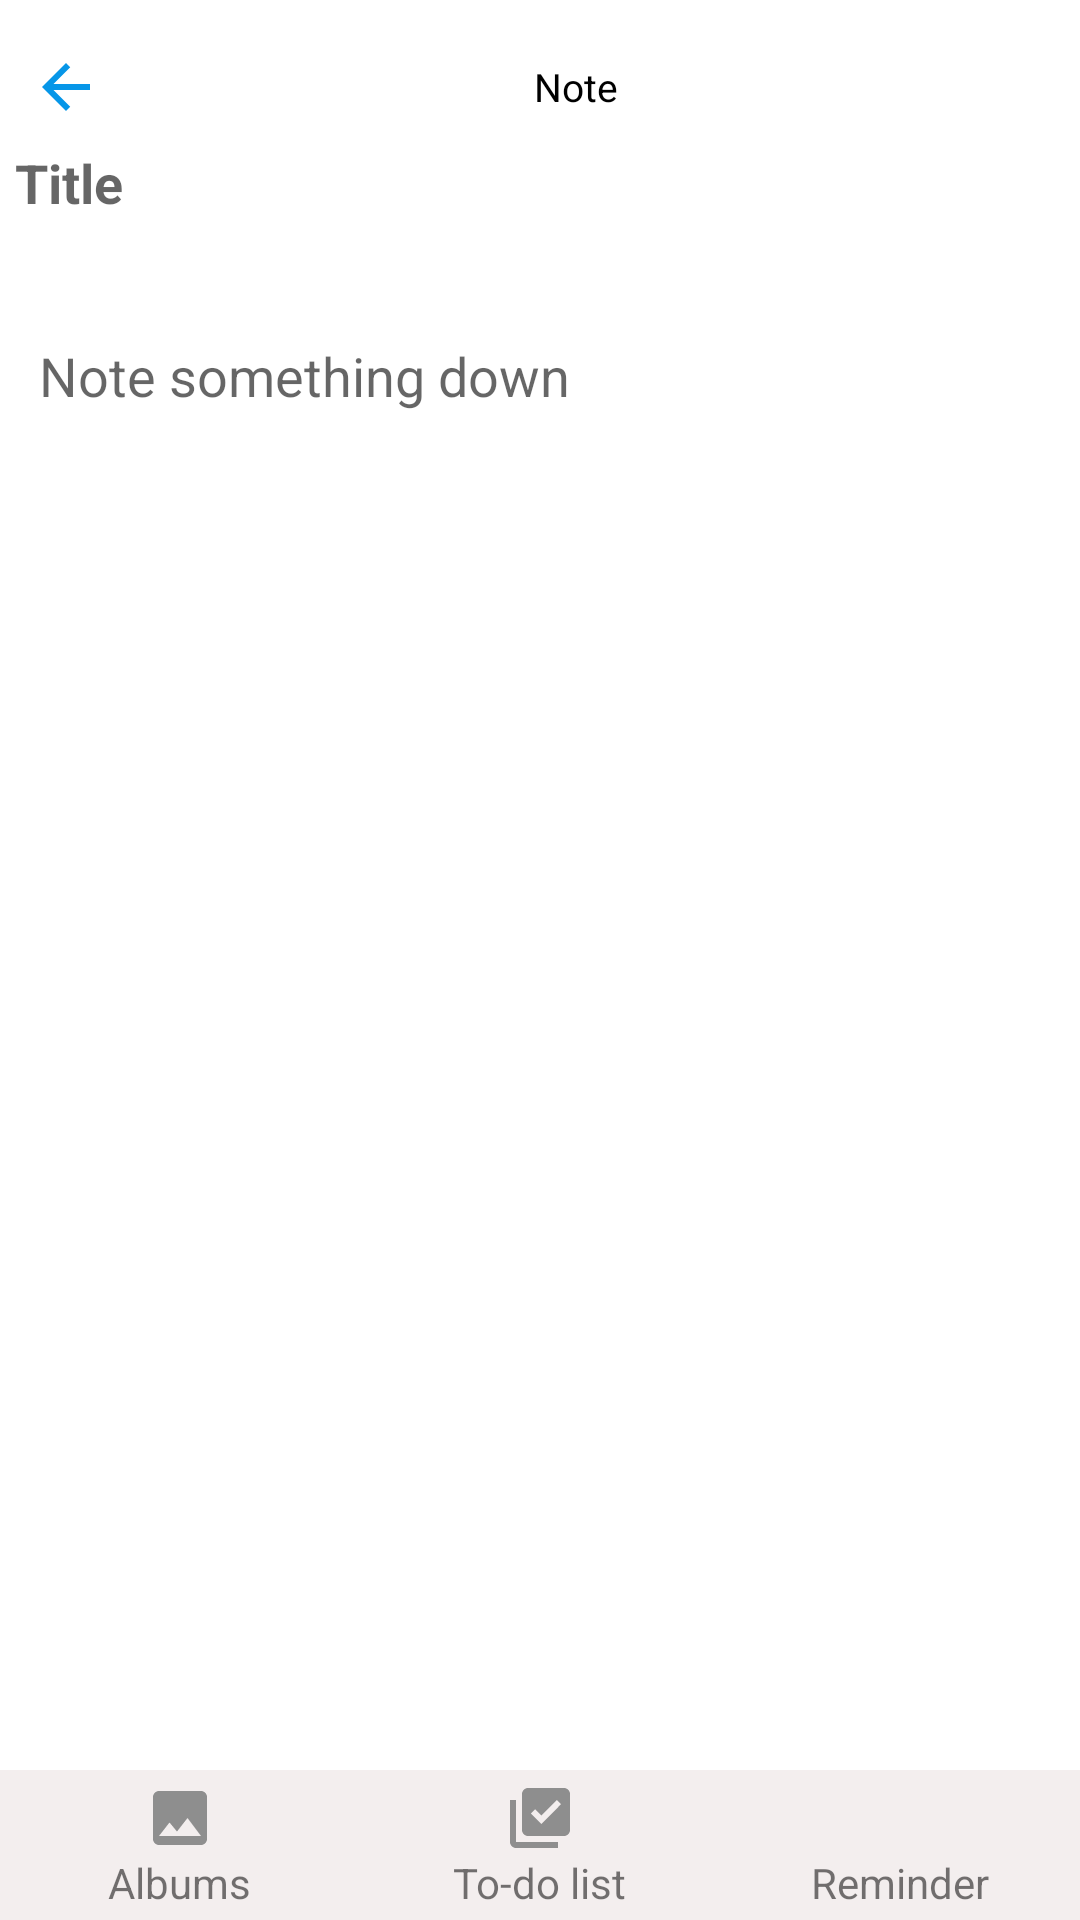

Where to tap for icons on this 1080 × 1920 app screen, as point (x, y):
back: point (66, 87)
